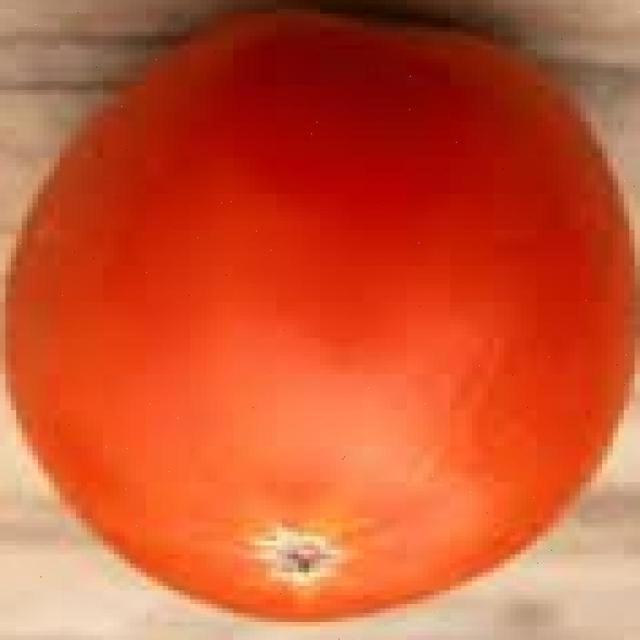Healthy Fruit: (0, 0, 406, 424)
